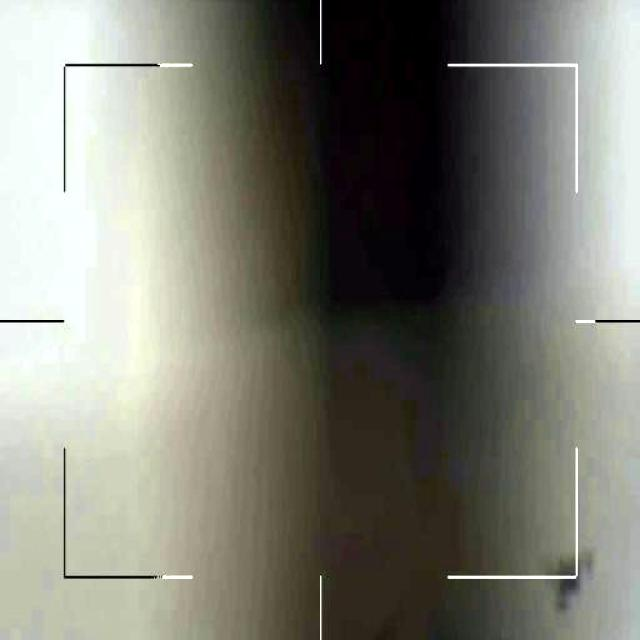bird: (541, 545, 601, 619)
